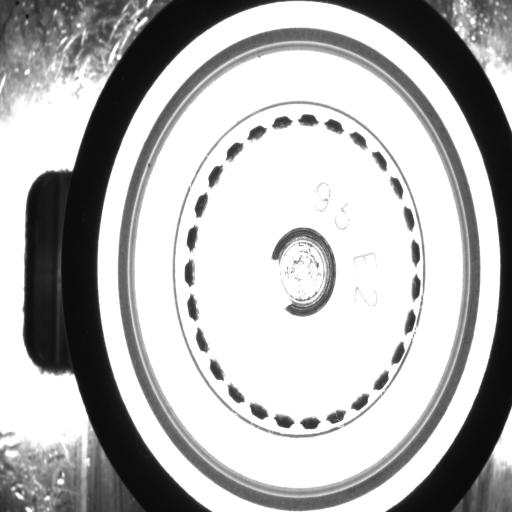gear: (182, 111, 424, 433)
